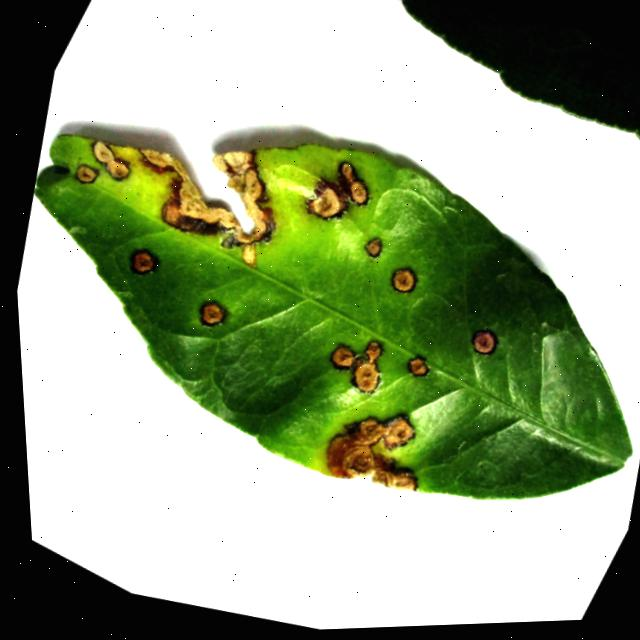antracnose: (34, 133, 630, 497), (139, 148, 269, 265), (326, 414, 416, 488), (305, 178, 347, 217), (352, 340, 381, 391), (92, 140, 128, 179), (338, 160, 367, 203), (308, 190, 342, 216), (471, 328, 497, 353), (130, 248, 156, 273), (391, 267, 415, 291), (330, 344, 354, 367), (201, 301, 224, 324), (75, 163, 97, 182), (407, 355, 428, 374), (364, 237, 381, 256)
